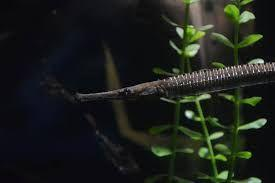Long-Snouted Pipefish: (72, 58, 275, 115)
